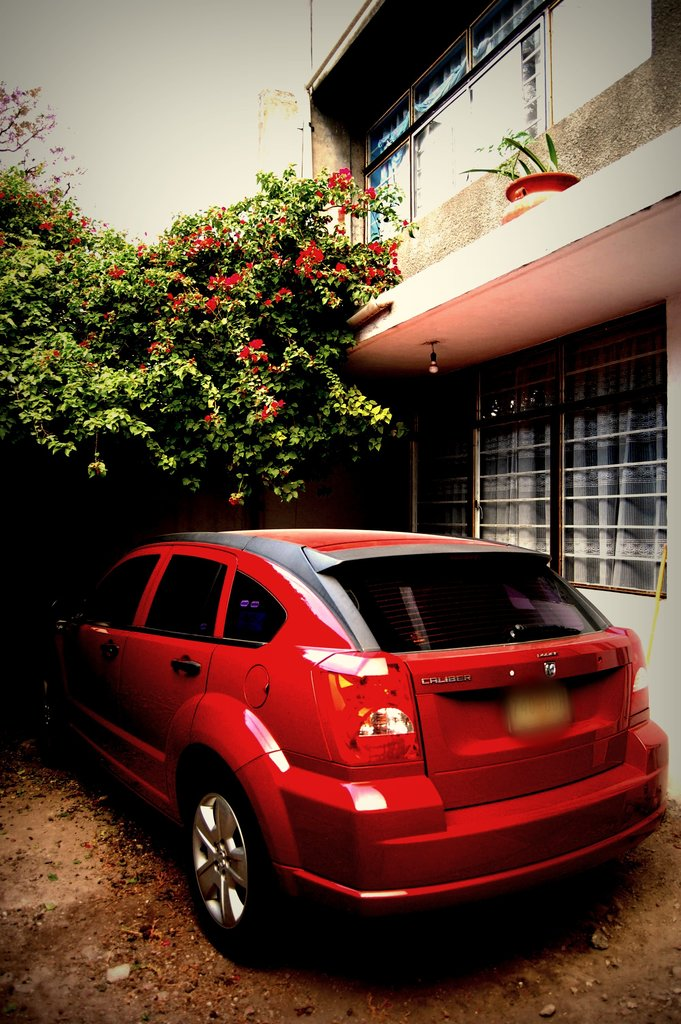Car: (35, 519, 675, 947)
